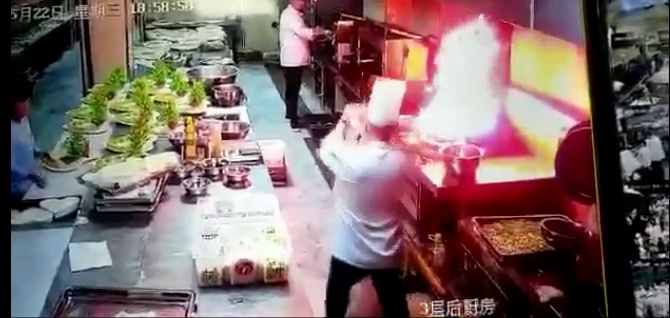fire: (416, 26, 510, 138)
